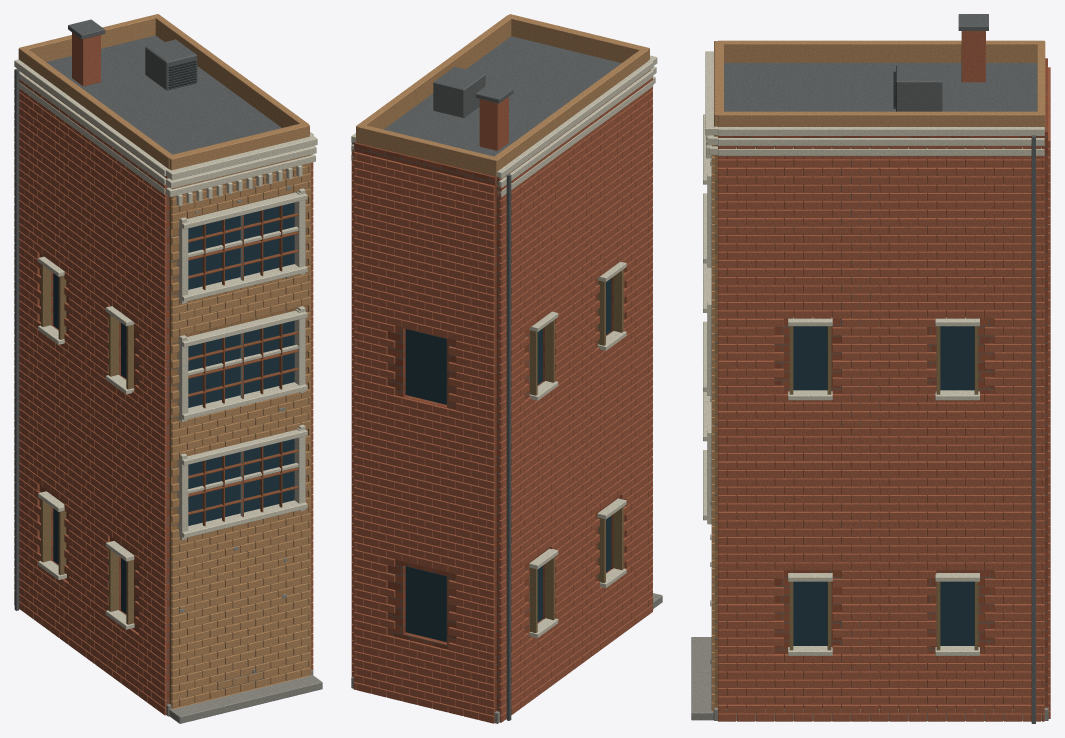
File: WRHS1_lod0.glb
3 views of the same model, side by side, from view 1: azimuth 30°, elevation 25°; view 2: azimuth 150°, elevation 25°; view 3: azimuth 270°, elevation 25° (orthographic). The views are drawn at different scales.
Parts seen in each view (by area): view 1: WRHS1_LOD0; view 2: WRHS1_LOD0; view 3: WRHS1_LOD0.
Boxes of the visible parts, <box> form: WRHS1_LOD0: <box>14,14,322,723</box>; WRHS1_LOD0: <box>351,14,662,723</box>; WRHS1_LOD0: <box>691,14,1050,723</box>.
Bounding box in the file's own units: 3.71 × 13.05 × 6.6.
Materials: 16 (14 with a texture image).
